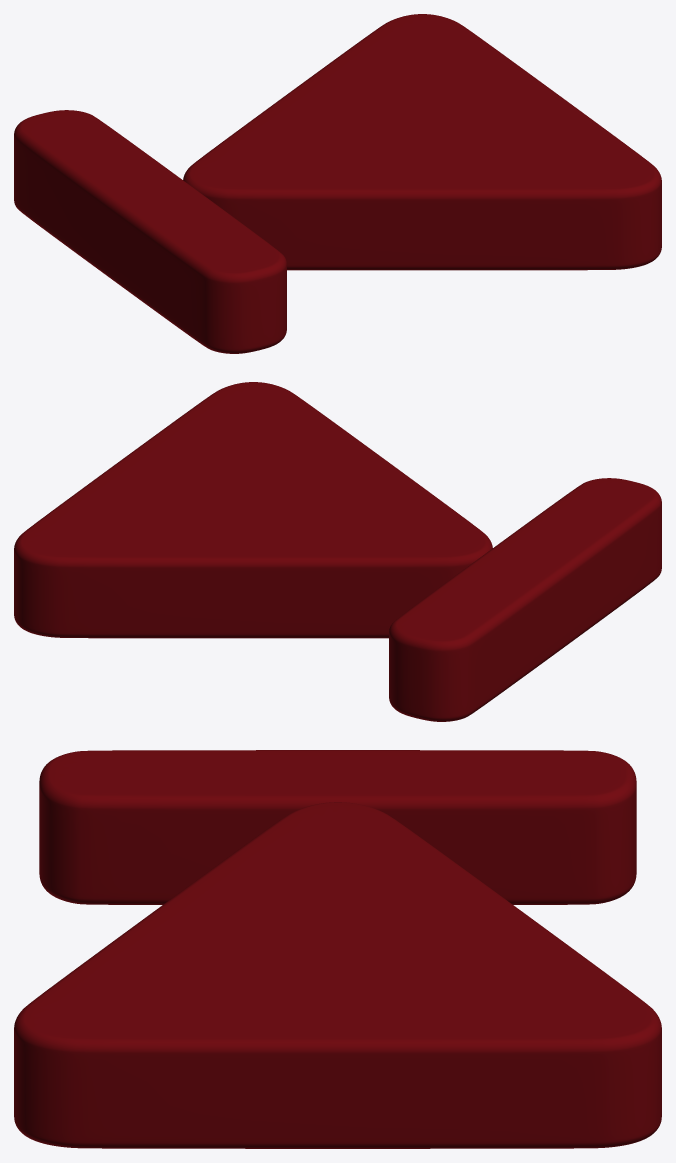
File: back.obj
The picture shows the model from 3 angles, top to bottom: view 1: azimuth 30°, elevation 25°; view 2: azimuth 150°, elevation 25°; view 3: azimuth 270°, elevation 25°; orthographic projection. The views are drawn at different scales.
Bounding box in the file's own units: 175 × 30 × 161.
